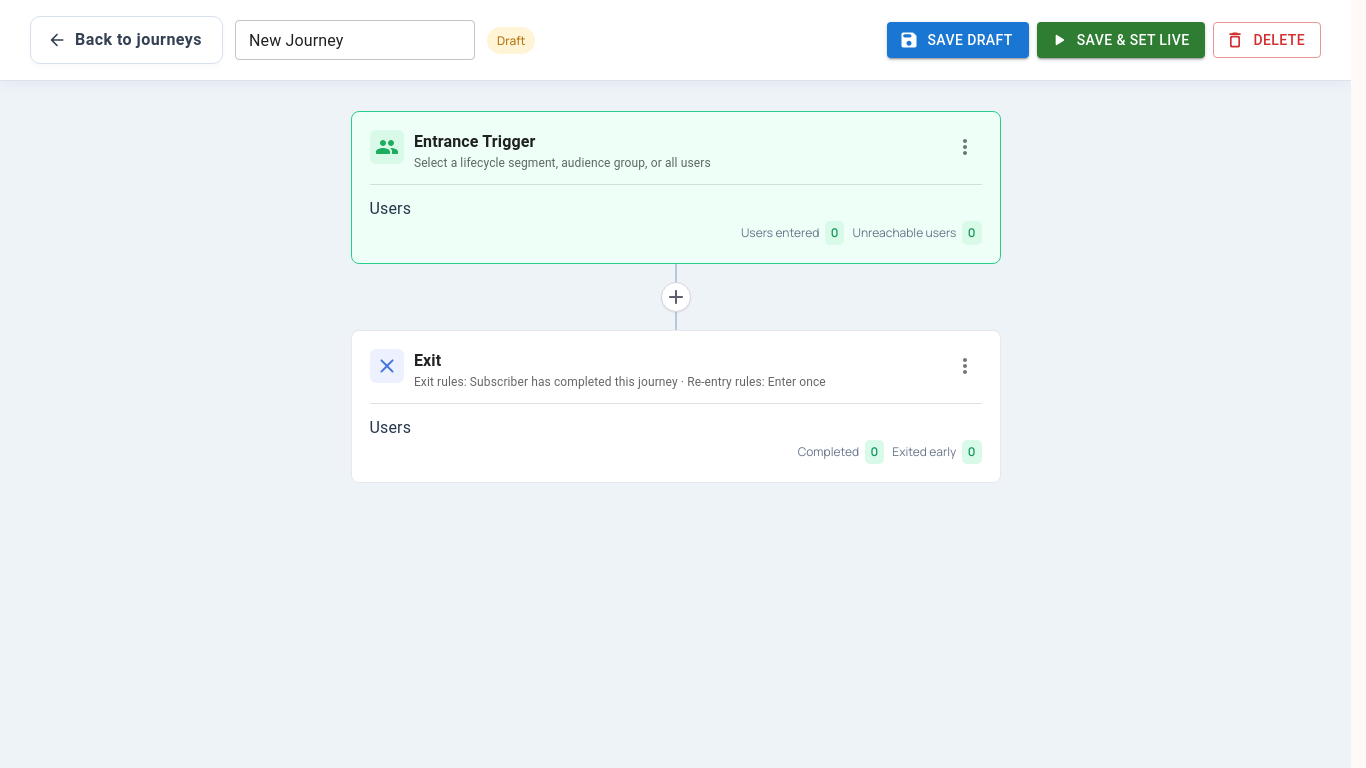
Test: journey builder › will not save without an audience, and says why
Step 1. Click the button "Save draft" → (958, 40), box [888,22,1029,58]
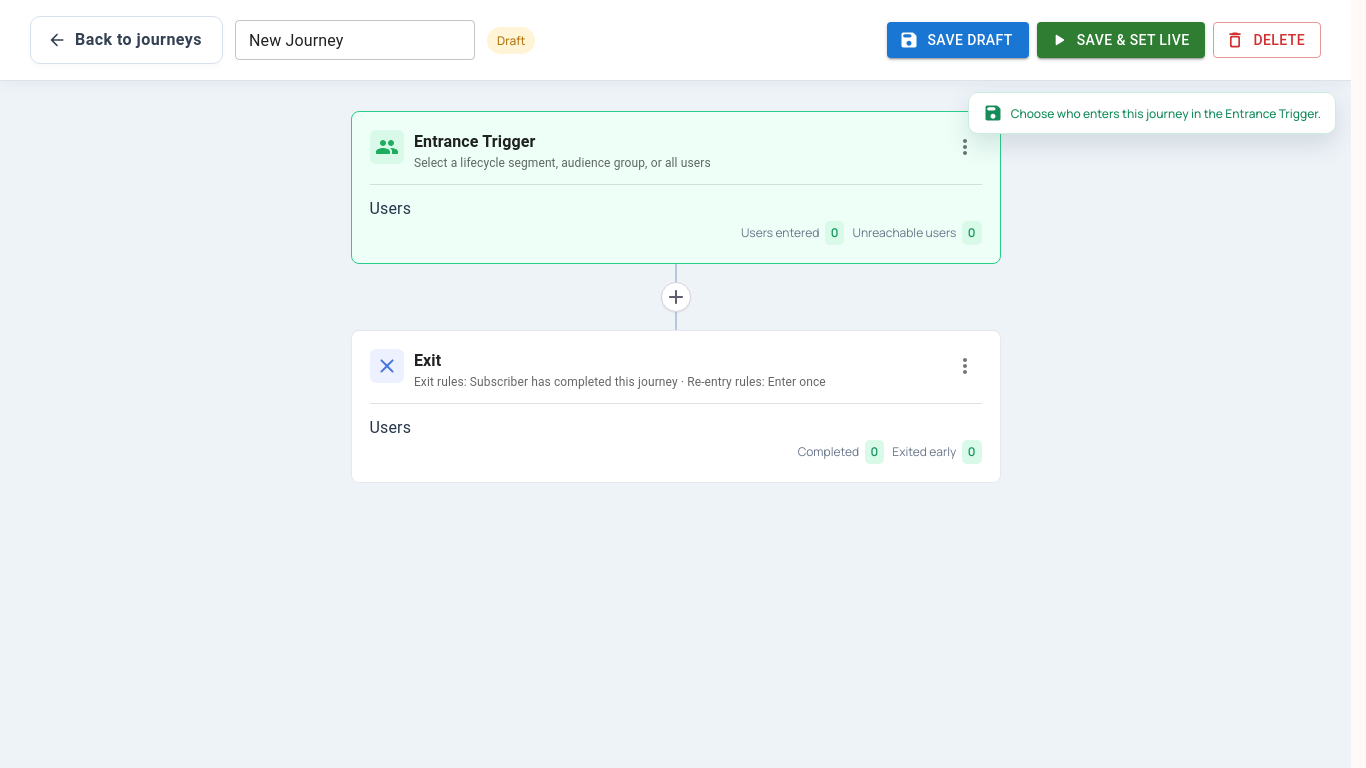
Expected: the text "Choose who enters this journey in the Entrance Trigger." is shown, [968,92,1336,134]
